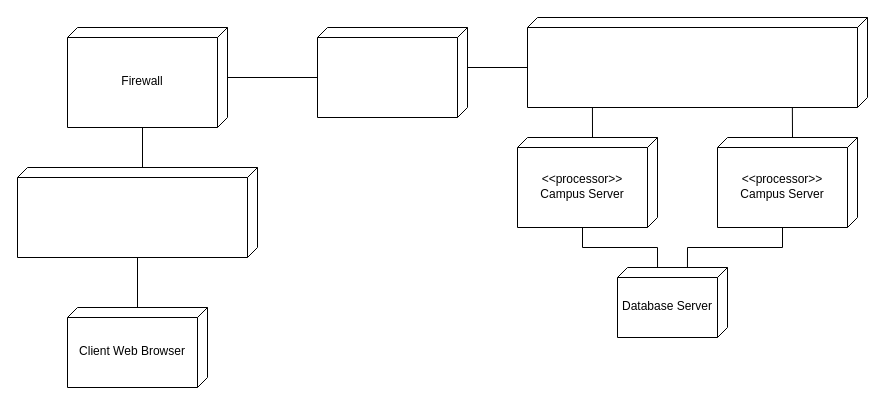
The diagram is 885 pixels wide and 405 high, and some of its shapes have lost their labels. Each missing label, with the box of its shape:
<<coordinator>> RabbitMQ: (316, 26, 468, 118)
<<network>> Local Area Network {1 node per campus}: (526, 16, 868, 108)
<<network>> Wide Area Network: (16, 166, 258, 258)
